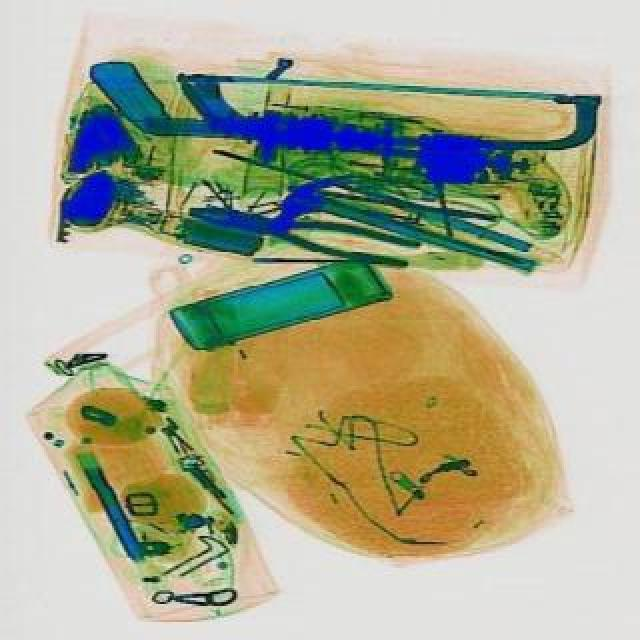wrench: (182, 192, 420, 272)
